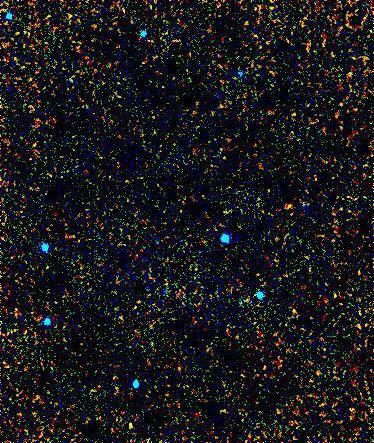star: (274, 193, 304, 223)
